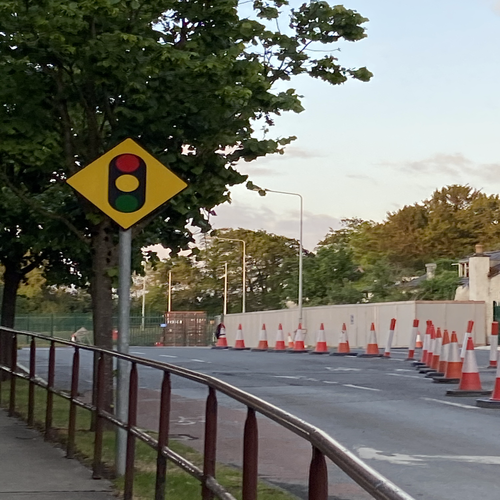Traffic Light Ahead: (59, 132, 192, 225)
